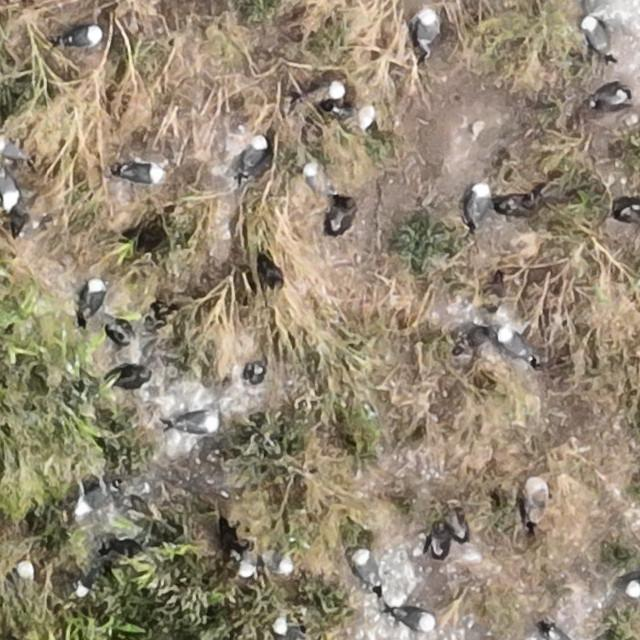umineko: (523, 476, 548, 529), (78, 486, 113, 514), (312, 80, 345, 108), (338, 105, 379, 127), (501, 331, 532, 359), (8, 560, 36, 590), (586, 20, 610, 54), (242, 140, 266, 174), (394, 609, 434, 629), (176, 413, 218, 432), (66, 25, 102, 46), (469, 185, 490, 221), (236, 539, 257, 575), (121, 165, 161, 183), (418, 13, 437, 48), (2, 173, 20, 209), (356, 553, 376, 585), (272, 620, 306, 638), (86, 281, 104, 314), (595, 88, 628, 106), (268, 552, 296, 573), (1, 138, 25, 158), (305, 165, 320, 192)
